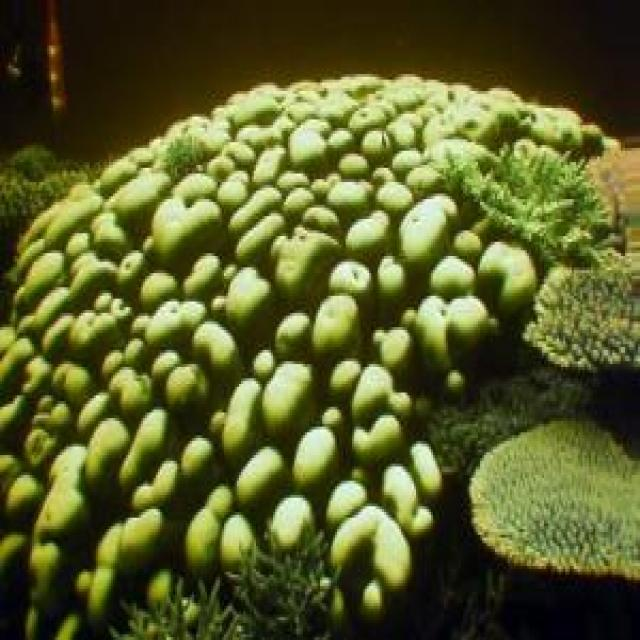Healthy: (1, 78, 639, 638), (472, 422, 639, 578), (443, 140, 609, 257), (524, 260, 639, 371)
